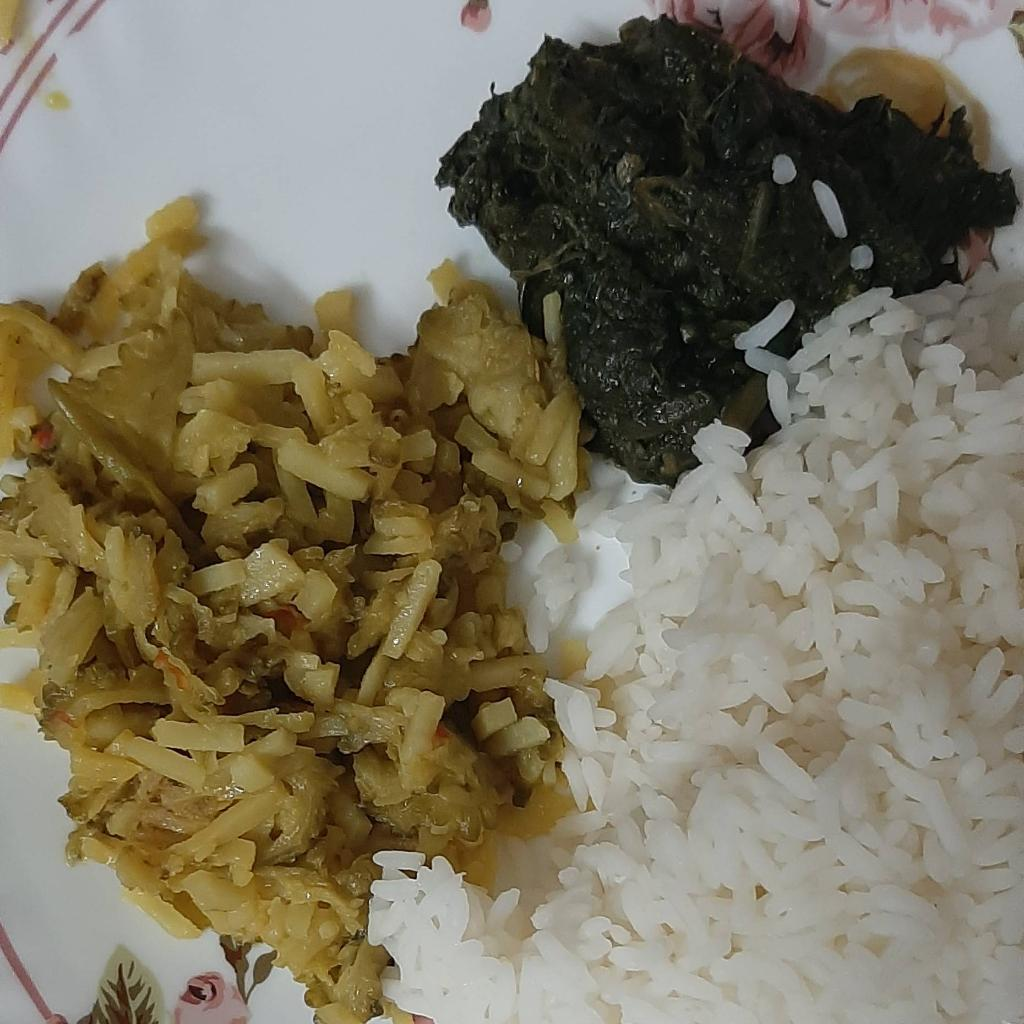rice: (371, 283, 1018, 1023)
shak: (437, 13, 1023, 478)
vaji: (4, 203, 577, 1014)
